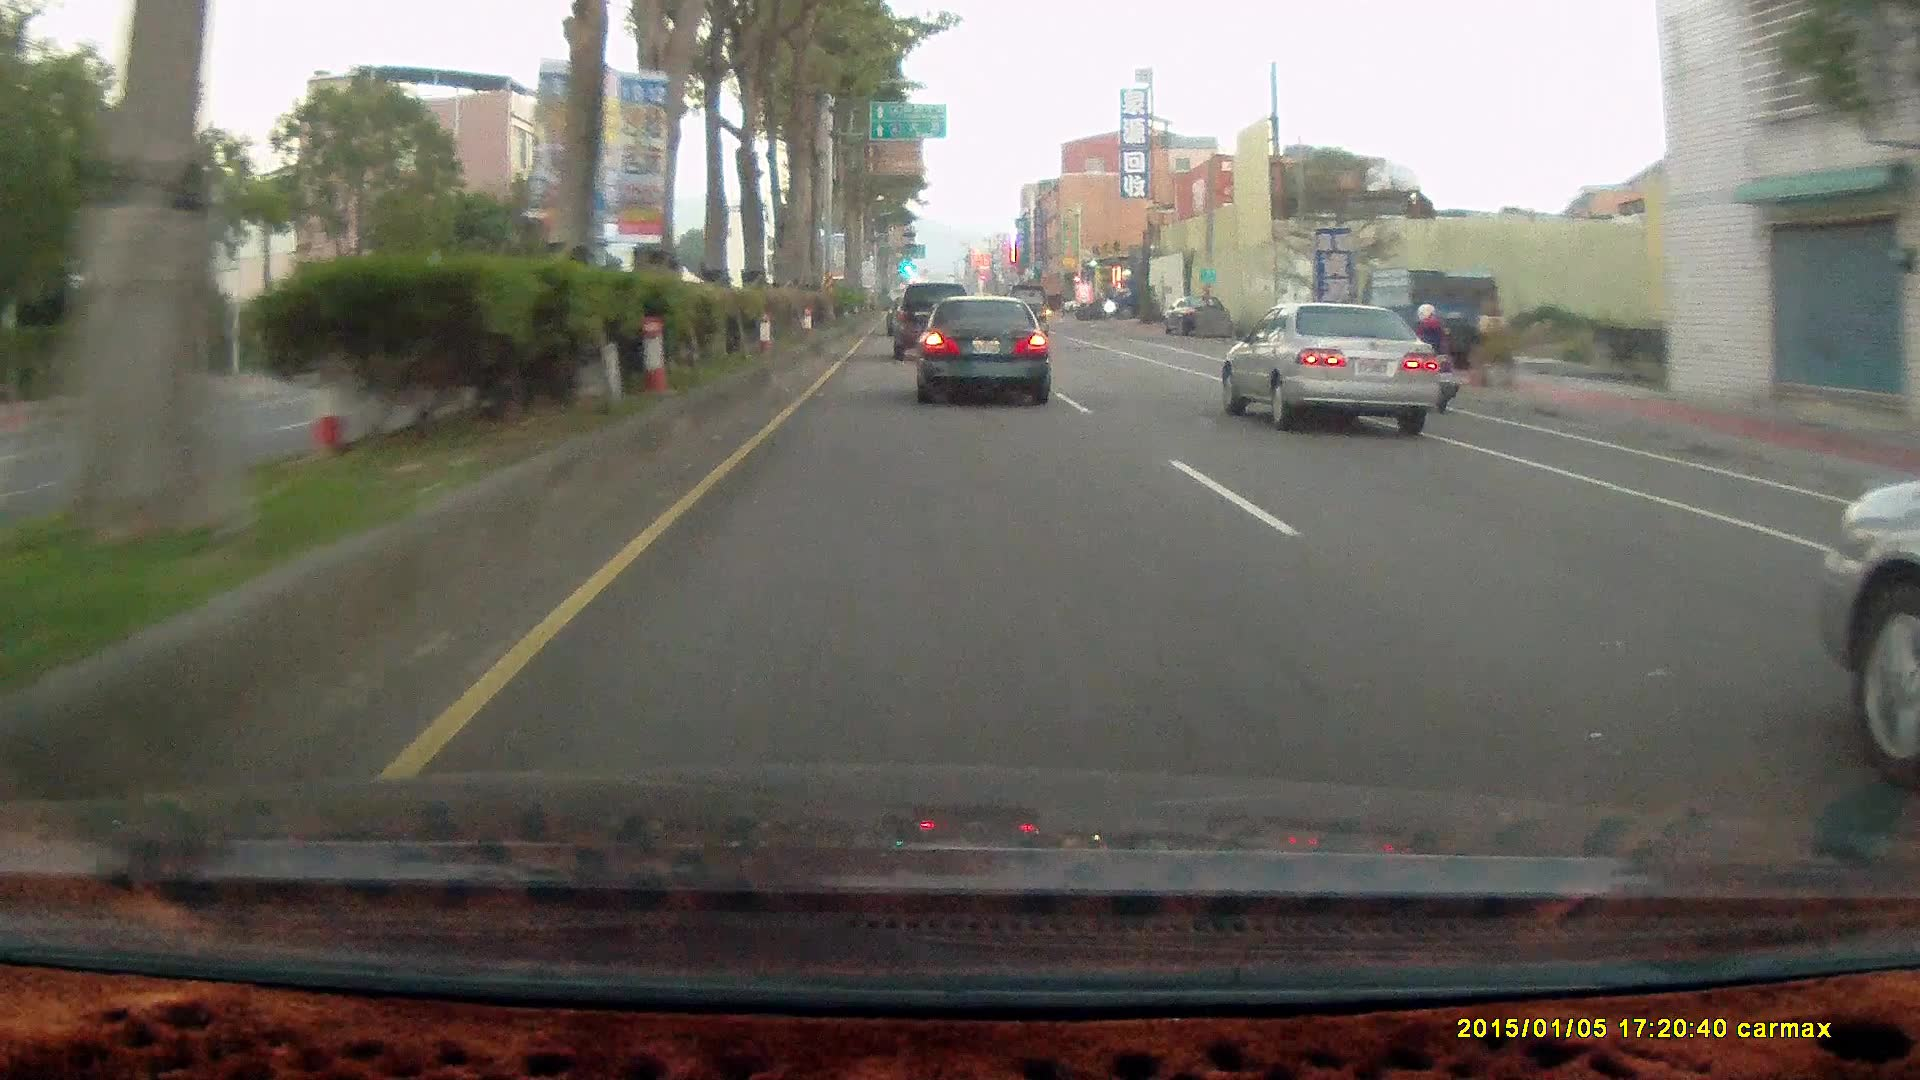rider: (1389, 295, 1469, 419), (1391, 301, 1455, 414)
vehicle: (1220, 299, 1439, 435), (1229, 302, 1445, 438), (910, 294, 1049, 405), (915, 297, 1052, 403), (1362, 269, 1499, 369), (889, 282, 972, 360), (1161, 295, 1234, 342), (1099, 282, 1163, 319), (1003, 282, 1049, 332)
